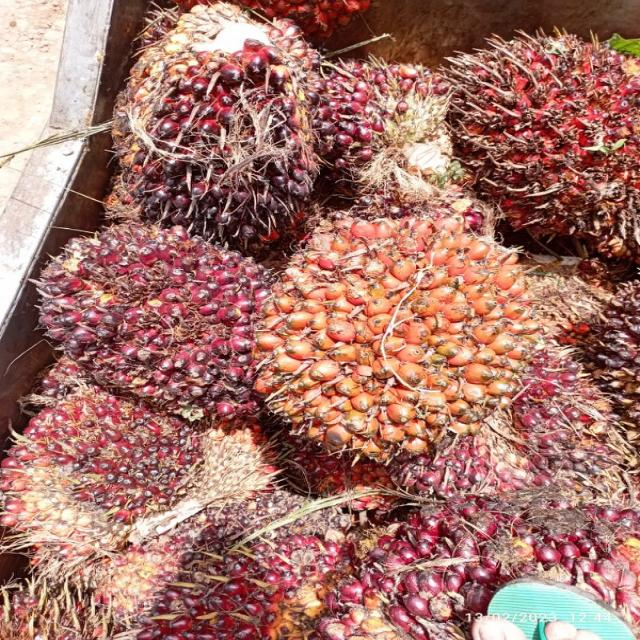fraksi 1: (0, 172, 312, 444), (64, 0, 340, 240), (0, 380, 256, 600), (288, 21, 468, 211)
fraksi 4: (216, 202, 554, 470), (453, 14, 640, 253)
